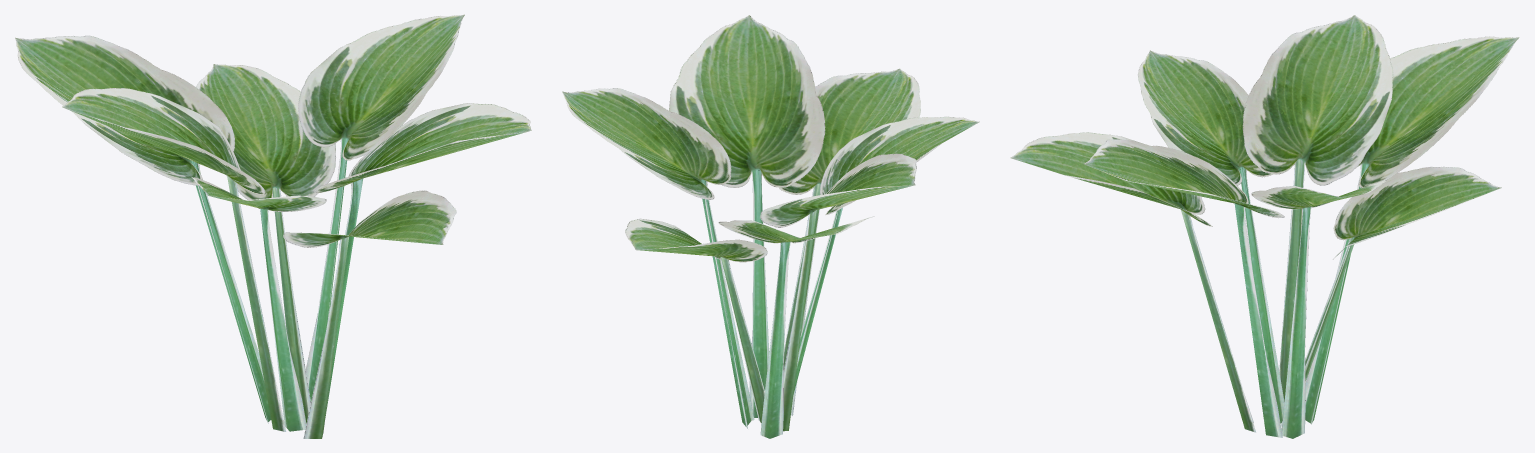
File: plant_small_wg_05F.fbx
3 renders of one model, left to right at view 1: azimuth 30°, elevation 25°; view 2: azimuth 150°, elevation 25°; view 3: azimuth 270°, elevation 25°, orthographic. The views are drawn at different scales.
Parts seen in each view (by area): view 1: plant_small_wg_05F; view 2: plant_small_wg_05F; view 3: plant_small_wg_05F.
Part boxes in pixels (bbox=[...]): plant_small_wg_05F: bbox=[15, 14, 531, 438]; plant_small_wg_05F: bbox=[562, 15, 979, 438]; plant_small_wg_05F: bbox=[1010, 15, 1519, 438].
Bounding box in the file's own units: 47.86 × 39.25 × 56.26.
